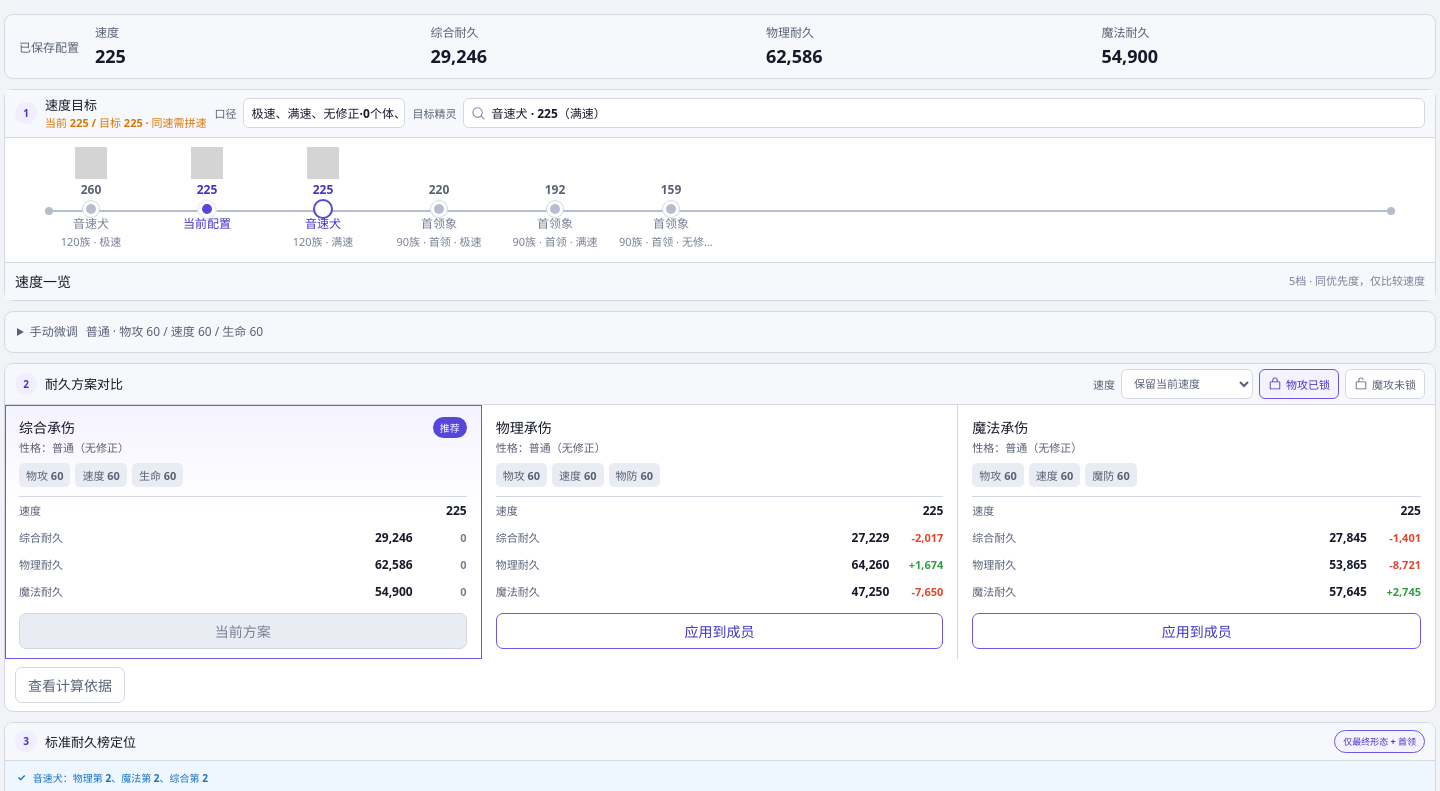
it: 个体值分配同时显示属性图标、实际面板值和个体值
Click the text "手动微调": [54, 331] box [30, 323, 78, 340]
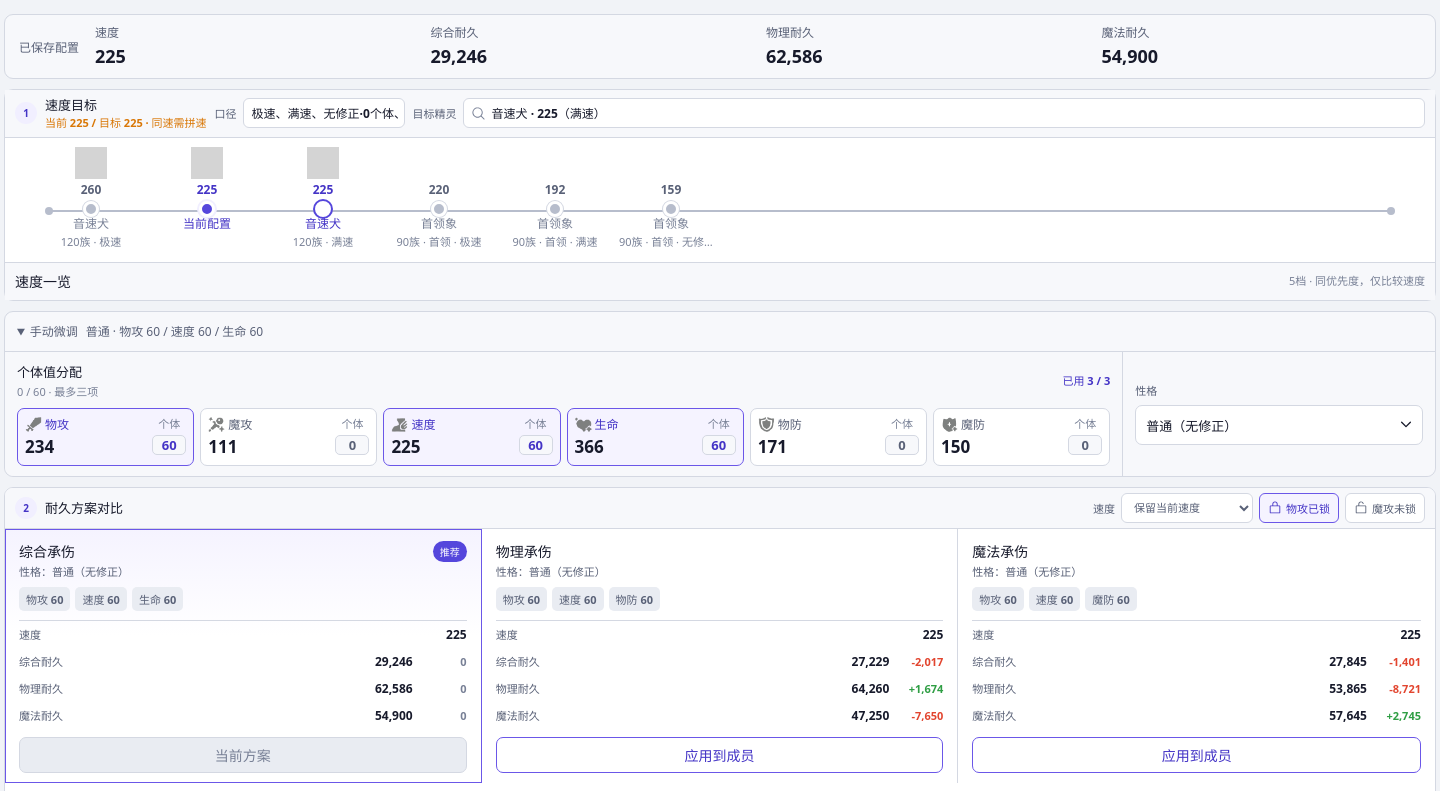
Result: the text named "速度实际值" reads "225" at [391, 435, 421, 458]
Result: the 6th picture is shown at [391, 416, 408, 433]
